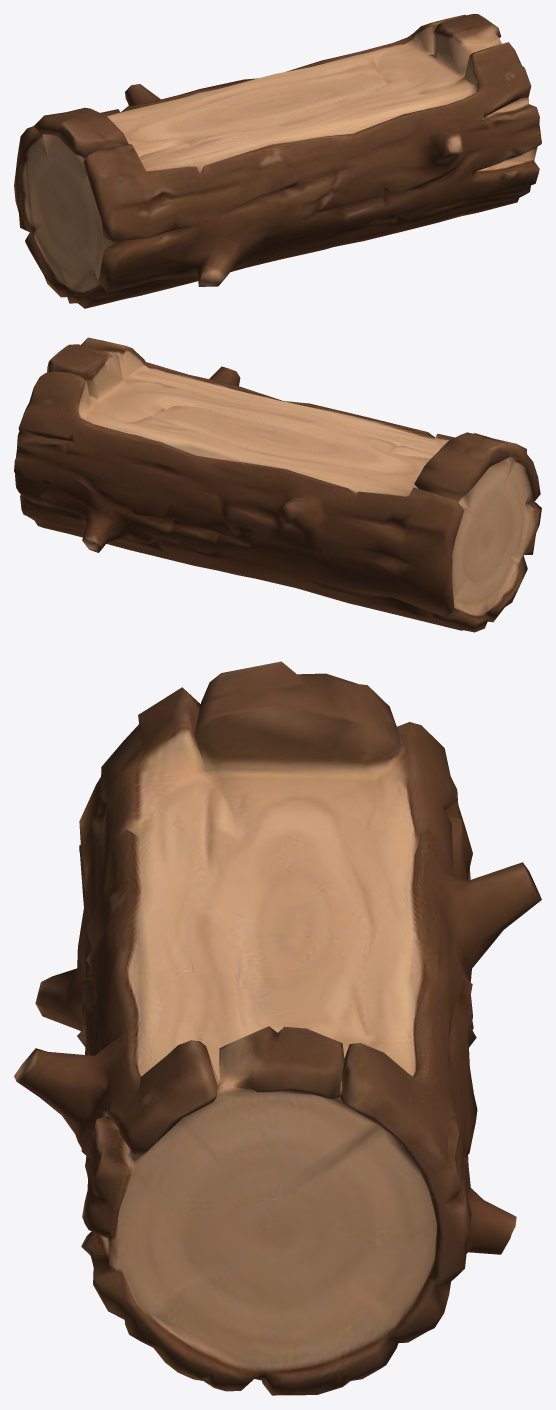
The model's file is sitting_log.glb.
The picture shows the model from 3 angles, top to bottom: view 1: azimuth 30°, elevation 25°; view 2: azimuth 150°, elevation 25°; view 3: azimuth 270°, elevation 25°; orthographic projection. The views are drawn at different scales.
Parts seen in each view (by area): view 1: tripo_node_4c3f6959-6a11-4353-b7ce-a4cf8e085afd; view 2: tripo_node_4c3f6959-6a11-4353-b7ce-a4cf8e085afd; view 3: tripo_node_4c3f6959-6a11-4353-b7ce-a4cf8e085afd.
Part boxes in pixels (box(x1,y1,x2,y2)): tripo_node_4c3f6959-6a11-4353-b7ce-a4cf8e085afd: box(14, 14, 541, 308); tripo_node_4c3f6959-6a11-4353-b7ce-a4cf8e085afd: box(14, 337, 541, 632); tripo_node_4c3f6959-6a11-4353-b7ce-a4cf8e085afd: box(14, 661, 541, 1395).
Bounding box in the file's own units: 0.9808 × 0.3834 × 0.5373.
Materials: 1 (1 with a texture image).
